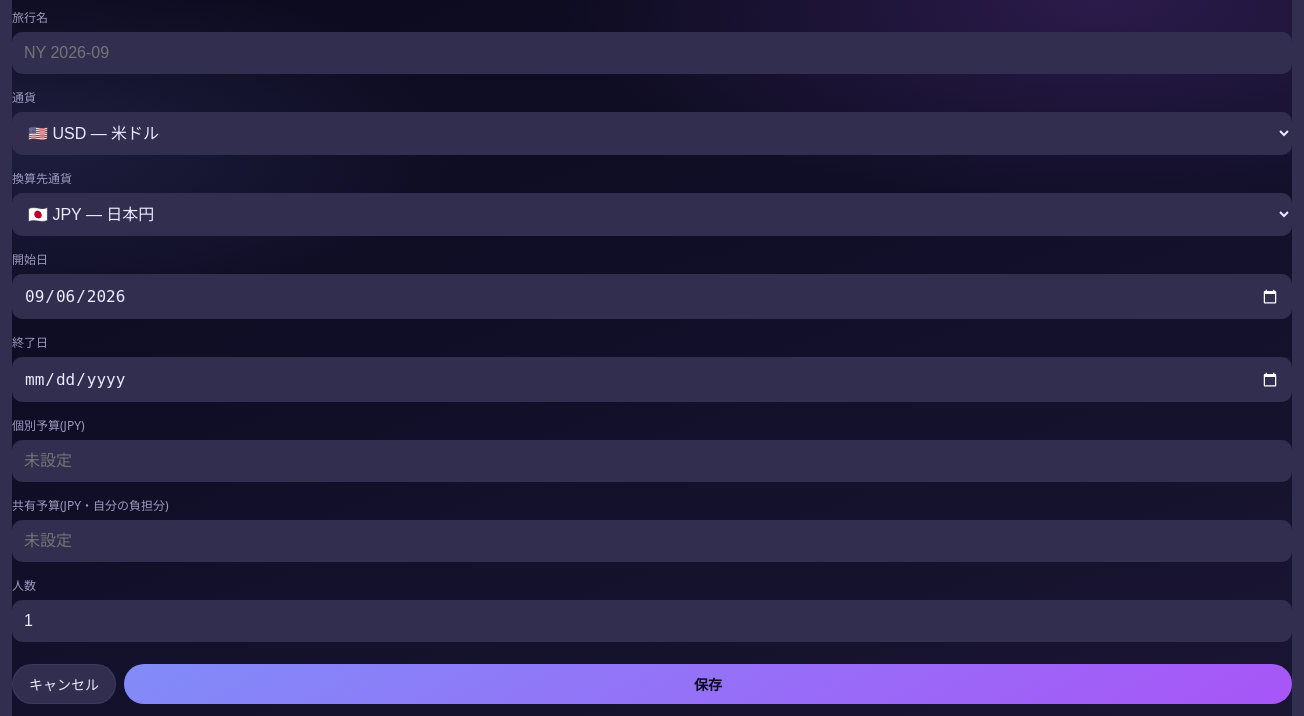
Test: TripForm › 旅行名が空なら保存しない
Click the button "保存" at point(708, 684), box left=124, top=664, right=1292, bottom=704
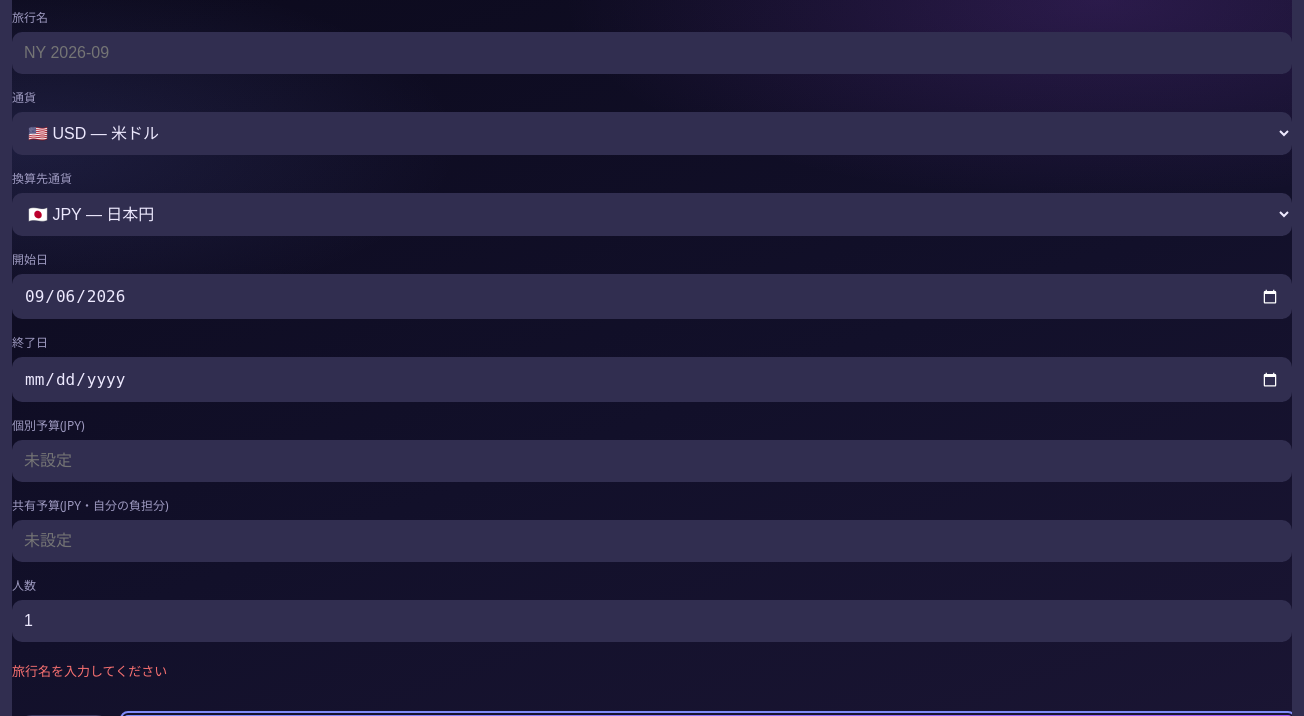
Now the text "旅行名を入力してください" is shown, box left=12, top=662, right=167, bottom=680
